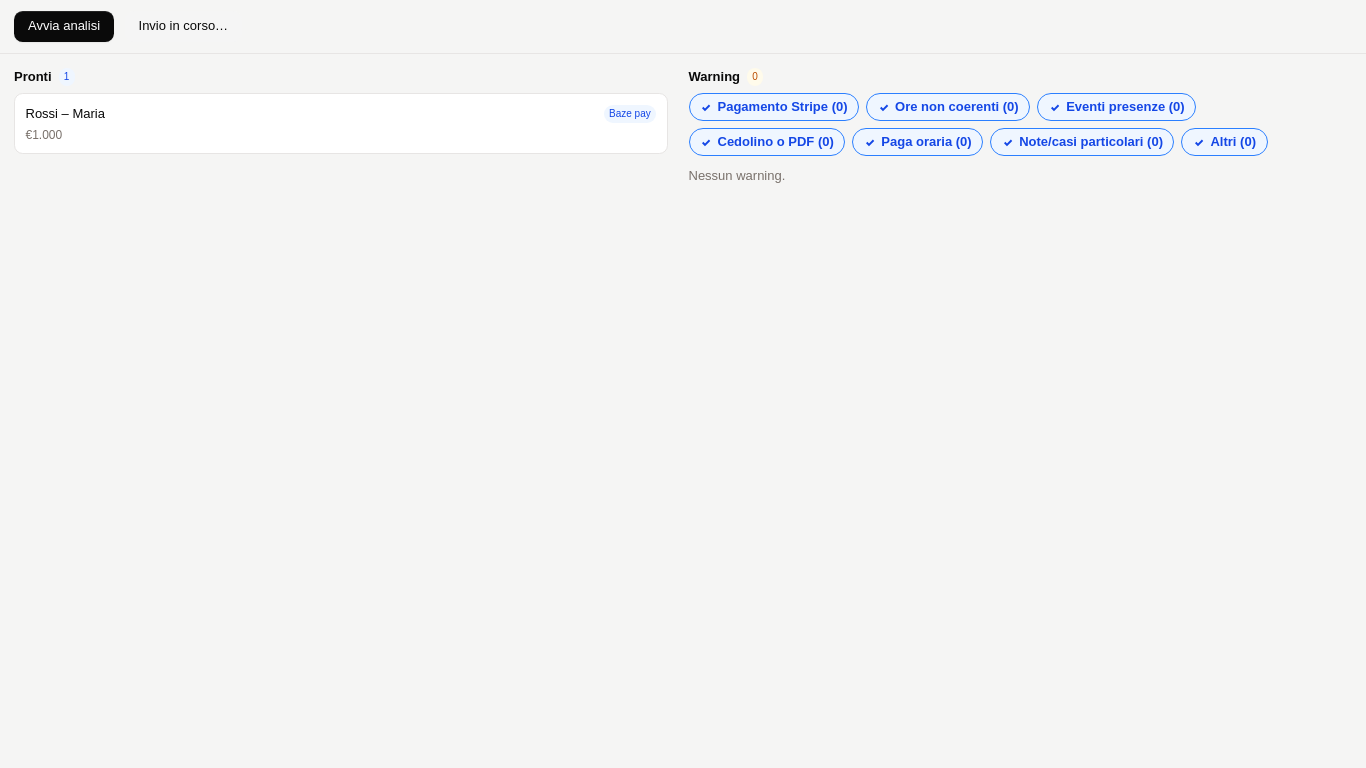
CedoliniControlliView — bulk send + recupero URL (U5) › EDGE: il pulsante di interruzione è disabilitato quando l'arresto è già stato richiesto
This screenshot has width=1366, height=768.
Click the button with test id "cedolini-controlli-invia".
click(183, 26)  # box [124,10,242,42]
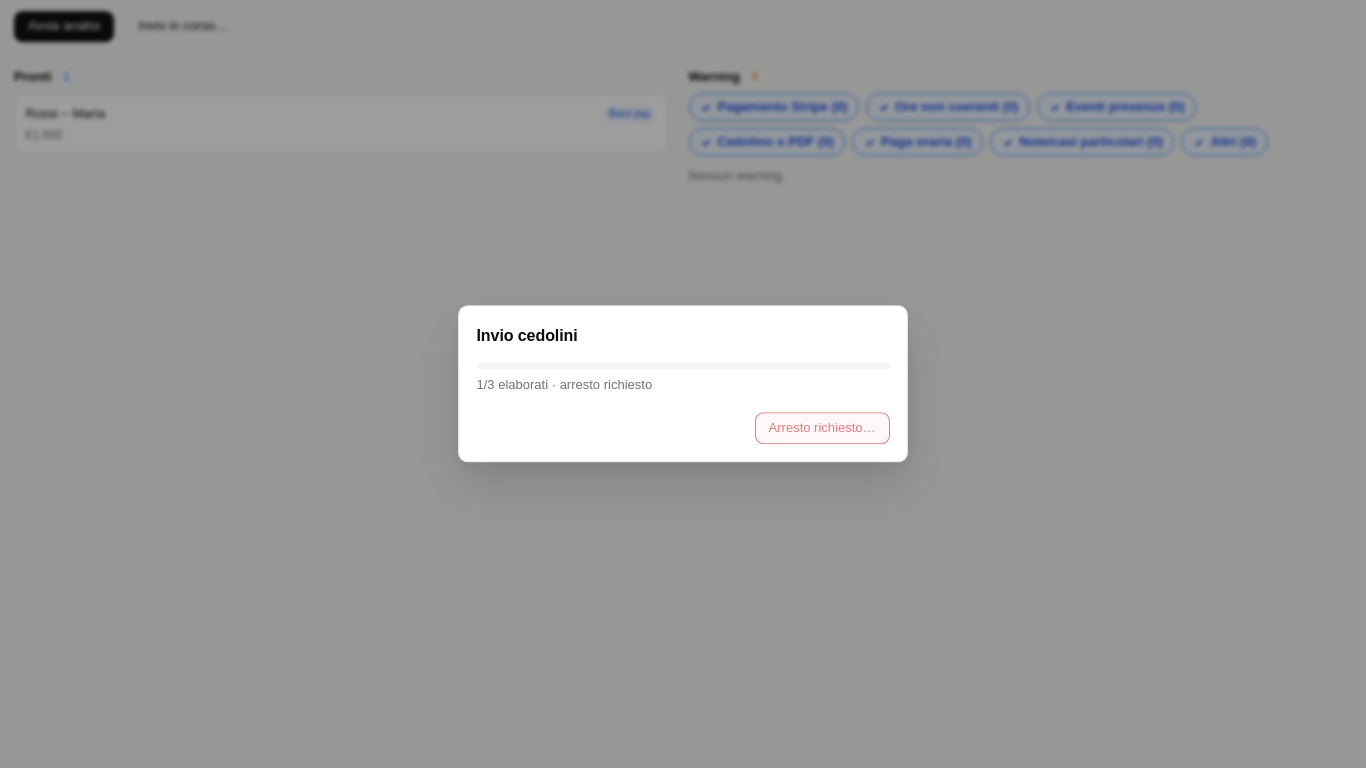
Check: the button with test id "cedolini-controlli-send-stop" is disabled, box [755,413,890,444]
